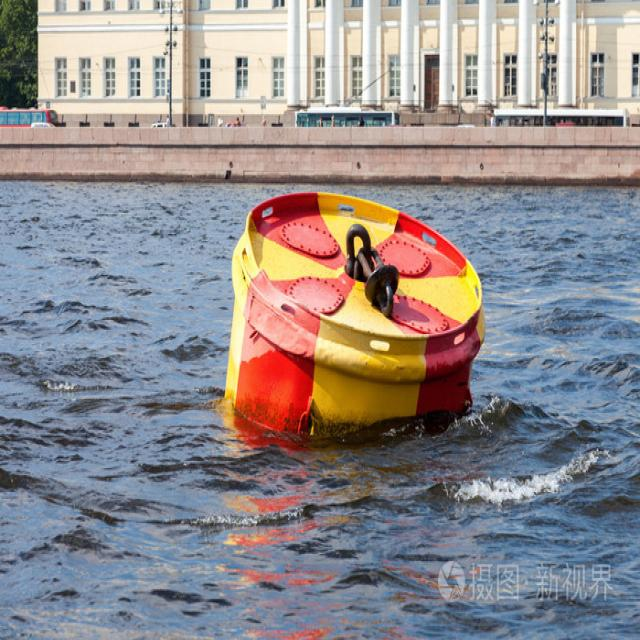buoy: (221, 184, 486, 460)
